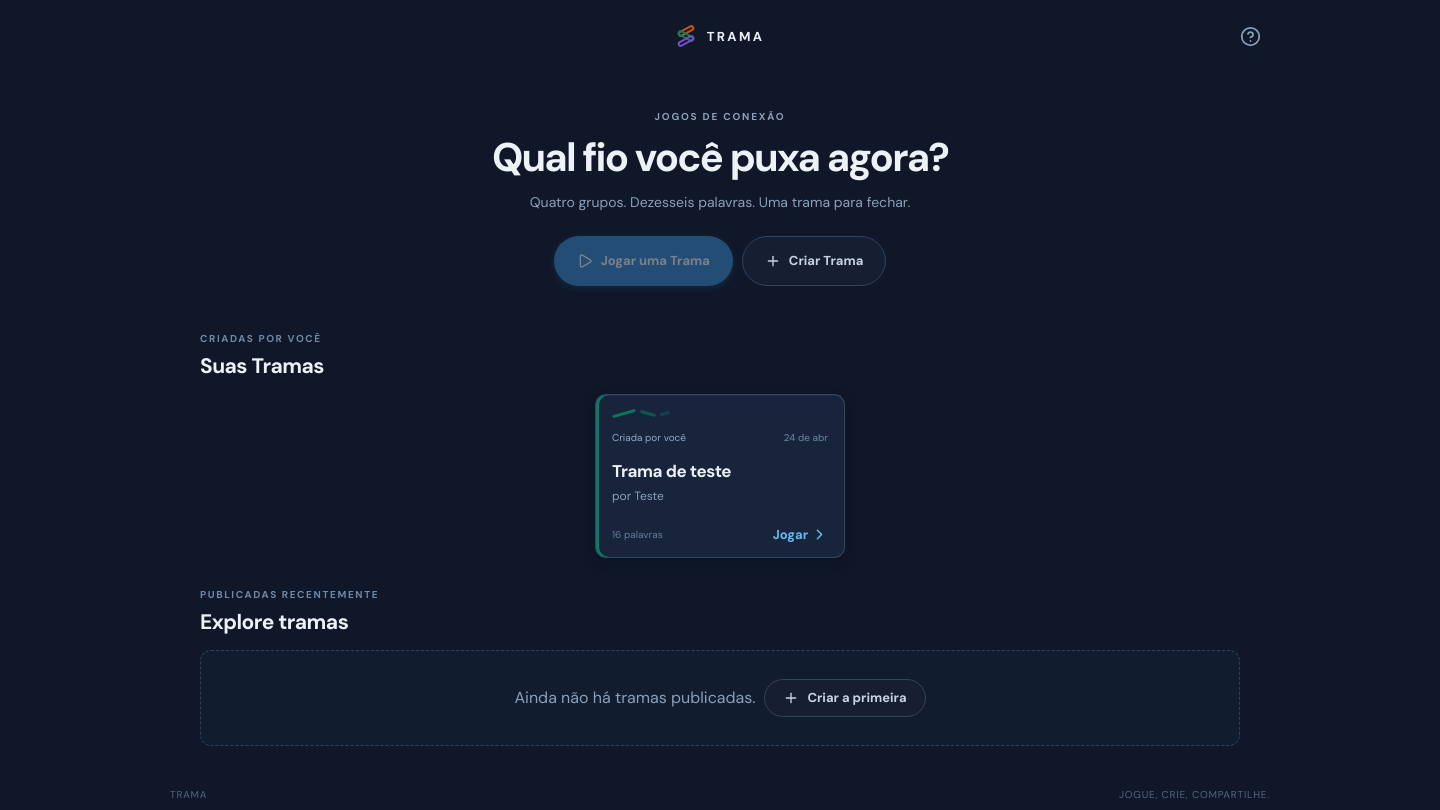
Test: Trama › mostra as Tramas criadas pelo jogador a partir do cache local
This screenshot has width=1440, height=810.
Check: the heading "Suas Tramas" is shown, box [200,352,324,380]
Click the button with aria-label "Jogar Trama de teste": (720, 476) [595,394,845,558]
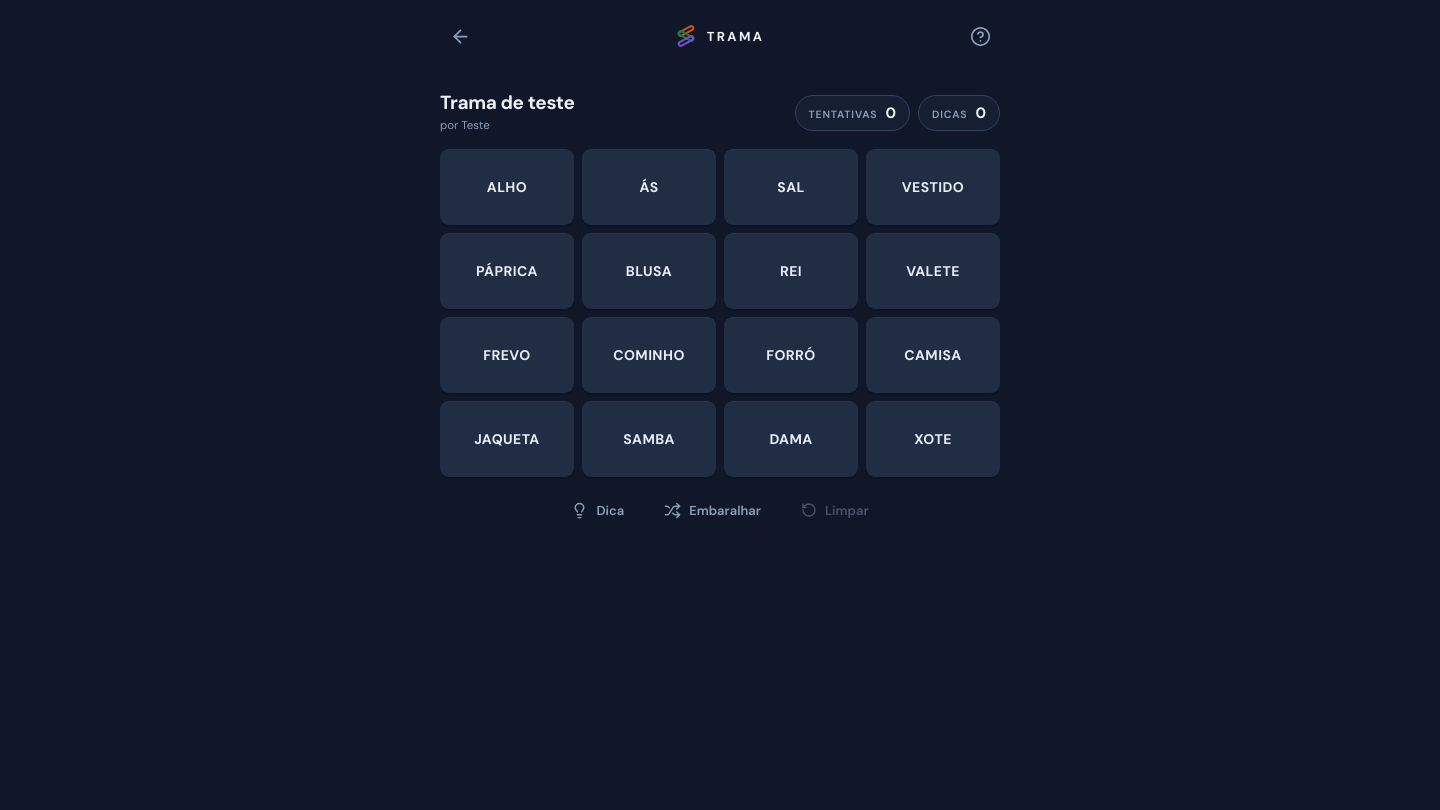
Check: the table named "Palavras" is shown, box [440,149,1000,477]
